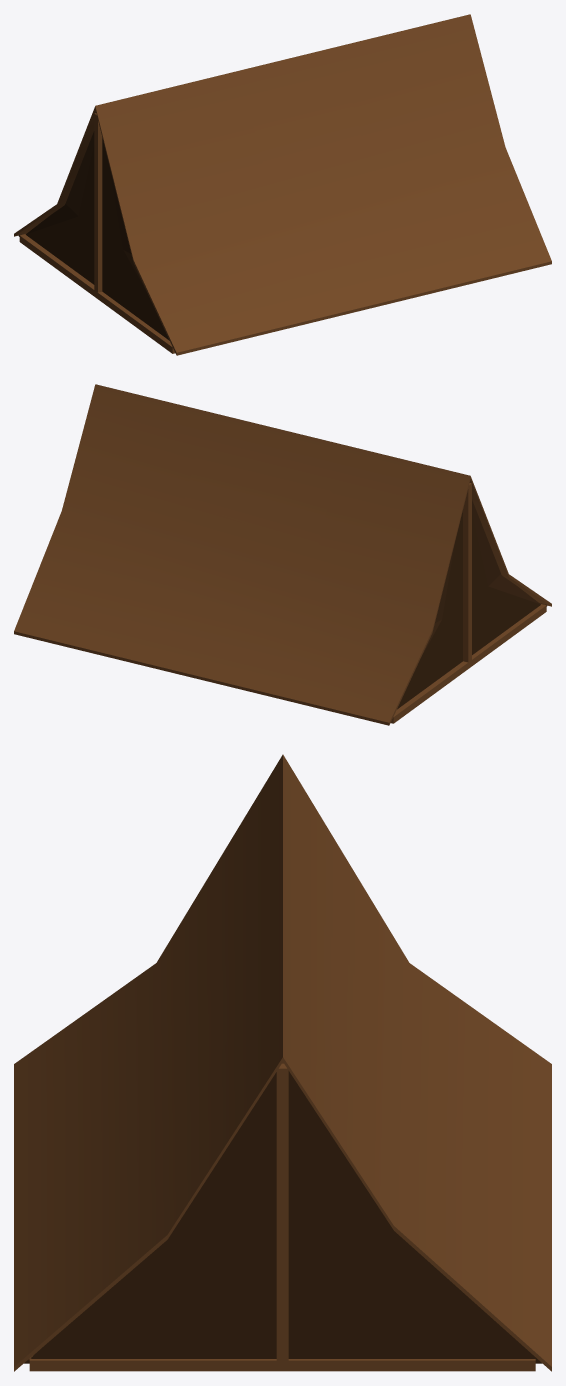
File: tent-bruin-dicht.fbx
3 views of the same model, one above another, from view 1: azimuth 30°, elevation 25°; view 2: azimuth 150°, elevation 25°; view 3: azimuth 270°, elevation 25° (orthographic). The views are drawn at different scales.
Parts seen in each view (by area): view 1: pCube1, pasted__polySurface1, polySurface1, pCube2, pCube3, pasted__pCube1; view 2: pasted__pCube1, polySurface1, pasted__polySurface1, pCube2, pCube3, pCube1; view 3: pCube1, pasted__pCube1, pasted__polySurface1 (×2), pasted__pCube2, pasted__pCube3.
Part boxes in pixels (bbox=[...]): pCube1: bbox=[95, 14, 551, 355]; pasted__polySurface1: bbox=[25, 131, 94, 284]; polySurface1: bbox=[102, 138, 169, 340]; pCube2: bbox=[19, 234, 174, 353]; pCube3: bbox=[94, 113, 102, 292]; pasted__pCube1: bbox=[14, 15, 464, 236]; pasted__pCube1: bbox=[14, 384, 470, 725]; polySurface1: bbox=[472, 500, 540, 654]; pasted__polySurface1: bbox=[397, 510, 462, 709]; pCube2: bbox=[391, 604, 546, 723]; pCube3: bbox=[463, 483, 471, 662]; pCube1: bbox=[101, 385, 551, 606]; pCube1: bbox=[14, 754, 282, 1371]; pasted__pCube1: bbox=[283, 754, 551, 1371]; pasted__polySurface1 (×2): bbox=[30, 1071, 539, 1361]; pasted__pCube2: bbox=[29, 1356, 535, 1371]; pasted__pCube3: bbox=[276, 1063, 288, 1363].
Bounding box in the file's own units: 11.94 × 5.87 × 8.97.
